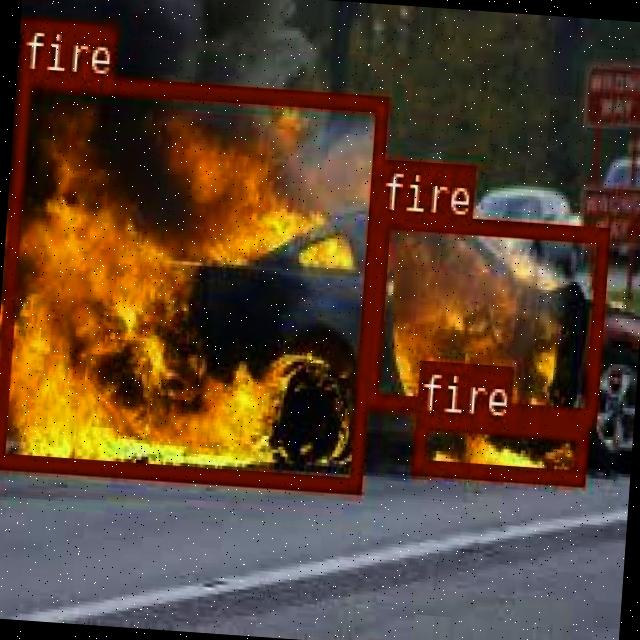fire: (0, 68, 385, 488), (364, 210, 606, 420), (410, 410, 586, 482)
